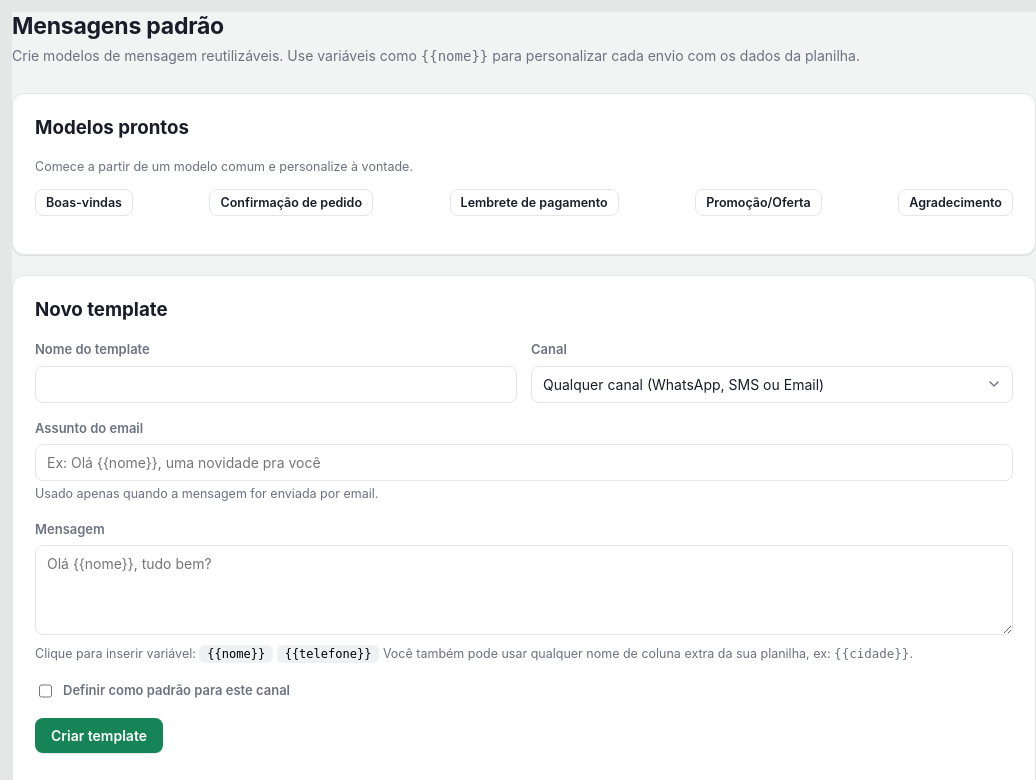
Test case: TemplatesPage › inserts a {{variavel}} tag into the message when its chip is clicked
This screenshot has width=1036, height=780.
Click the button with class "tag" showing "{{nome}}" at (236, 654), box [199,646,273,664]
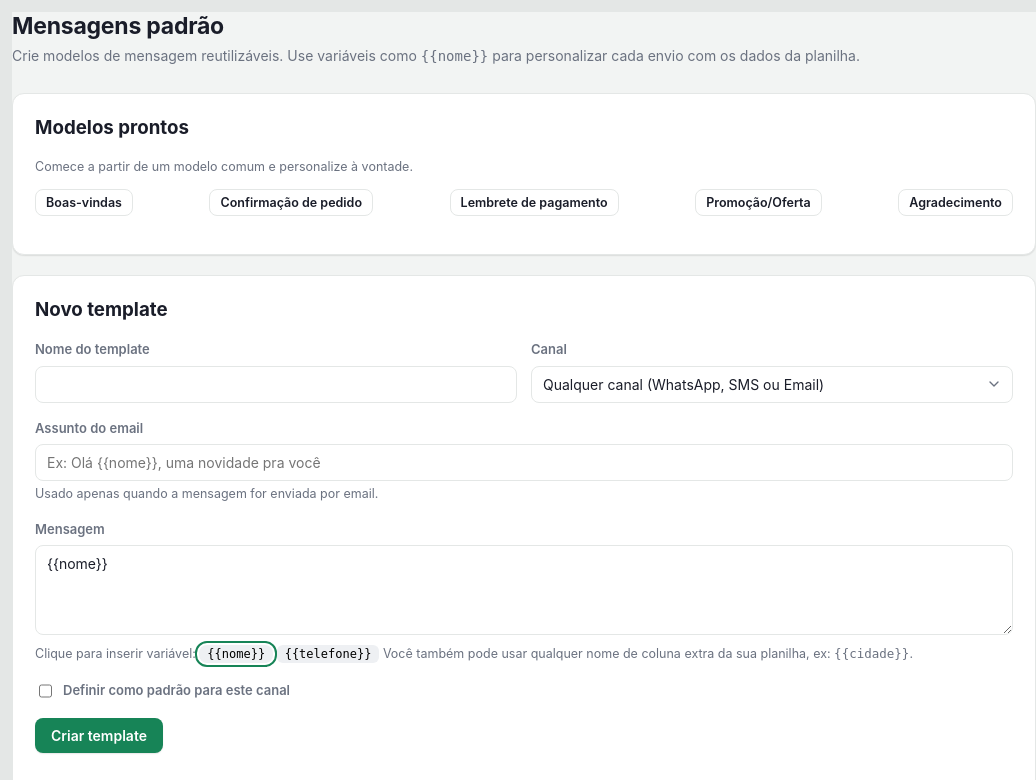
expect the text box labelled "Mensagem" holds "{{nome}}": met, box [35,546,1013,636]
